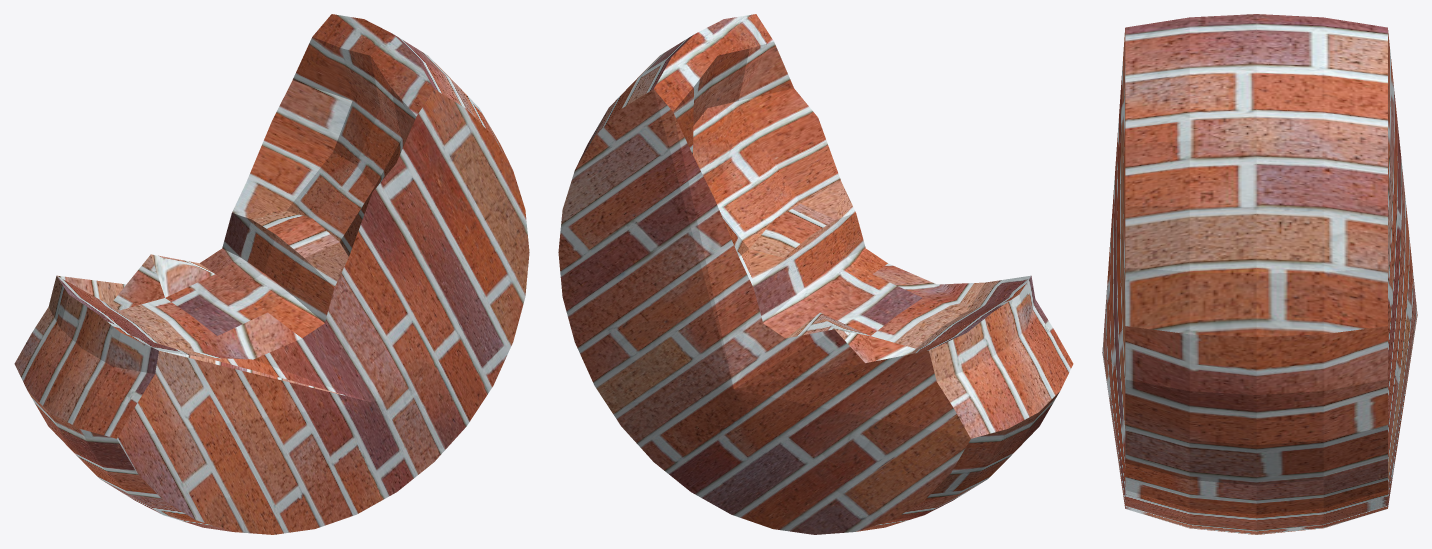
File: wall.dae
The picture shows the model from 3 angles, left to right: view 1: azimuth 30°, elevation 25°; view 2: azimuth 150°, elevation 25°; view 3: azimuth 270°, elevation 25°; orthographic projection. The views are drawn at different scales.
Parts seen in each view (by area): view 1: Wall; view 2: Wall; view 3: Wall.
Part boxes in pixels (box(x1,y1,x2,y2)): Wall: box(14, 14, 529, 534); Wall: box(558, 14, 1073, 534); Wall: box(1102, 14, 1417, 534).
Size of what is drawn, in the model's own units: 70.74 by 33.76 by 67.34.
1 material, 1 textured.
